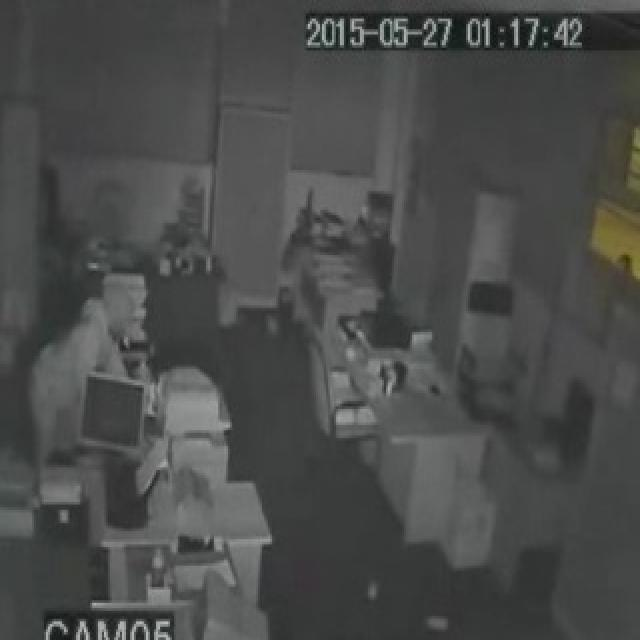thief: (69, 252, 135, 393)
